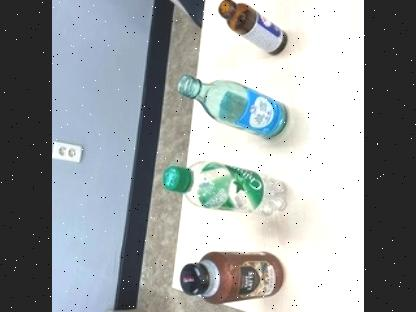Others: (172, 76, 294, 138), (180, 244, 288, 306), (216, 0, 290, 55)
Plastic Bottle: (158, 158, 294, 218)
